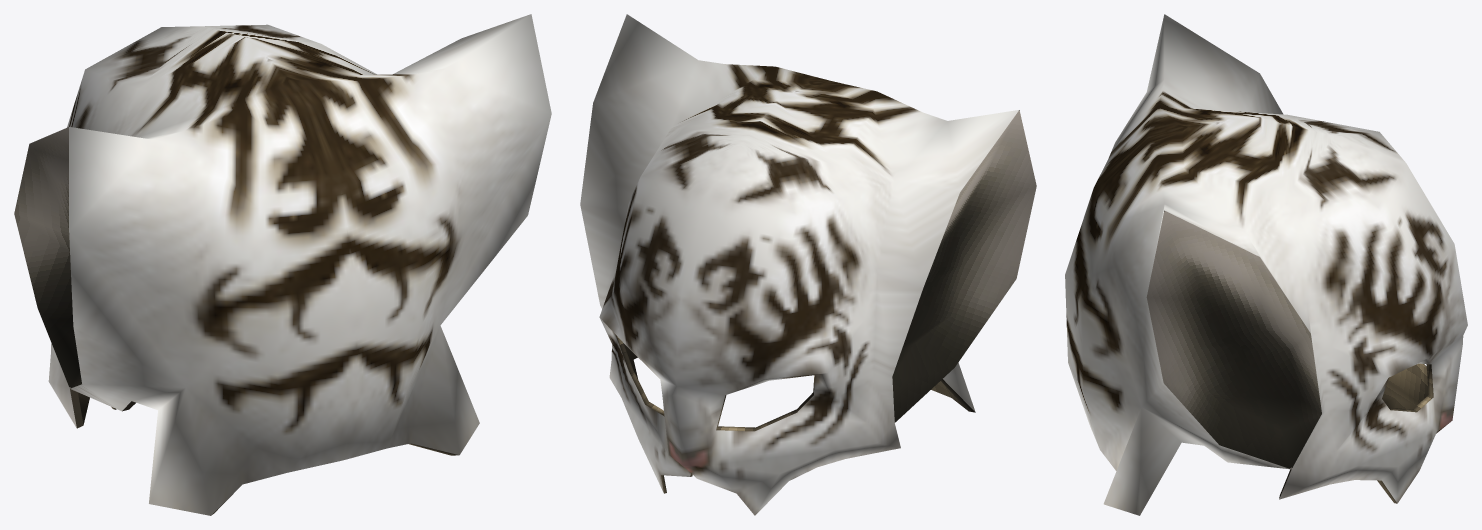
3 renders of one model, left to right at view 1: azimuth 30°, elevation 25°; view 2: azimuth 150°, elevation 25°; view 3: azimuth 270°, elevation 25°, orthographic. The views are drawn at different scales.
Visible parts, largest first — view 1: it605; view 2: it605; view 3: it605.
Part boxes in pixels (x1,y1,x2,y2): it605: (14, 14, 551, 515); it605: (580, 14, 1036, 515); it605: (1065, 14, 1467, 515).
Size of the model in its own units: 0.9492 by 0.796 by 0.7881.
Materials: 3 (3 with a texture image).
